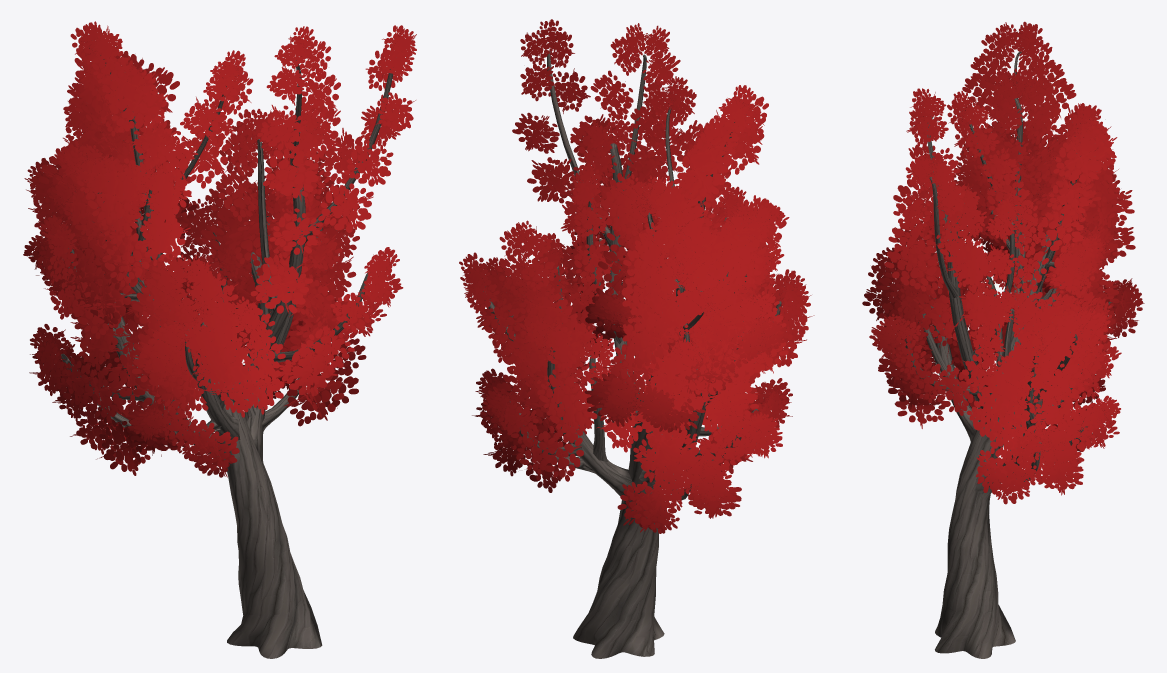
File: TwistedTree_2.gltf
The picture shows the model from 3 angles, left to right: view 1: azimuth 30°, elevation 25°; view 2: azimuth 150°, elevation 25°; view 3: azimuth 270°, elevation 25°; orthographic projection. The views are drawn at different scales.
Parts seen in each view (by area): view 1: TwistedTree_2; view 2: TwistedTree_2; view 3: TwistedTree_2.
Boxes of the visible parts, <box> form: TwistedTree_2: <box>23,21,416,658</box>; TwistedTree_2: <box>459,19,814,658</box>; TwistedTree_2: <box>862,21,1144,658</box>.
Size of the model in its own units: 10.56 by 18.95 by 9.2.
Materials: 2 (2 with a texture image).
